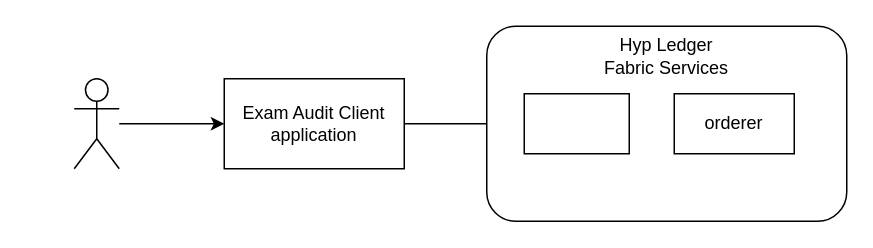
The diagram is 873 pixels wide and 248 high, and some of its shapes have lost their labels. Each missing label, with the centre of its shape:
peer: (576,123)
Student/Instructor: (96,123)
